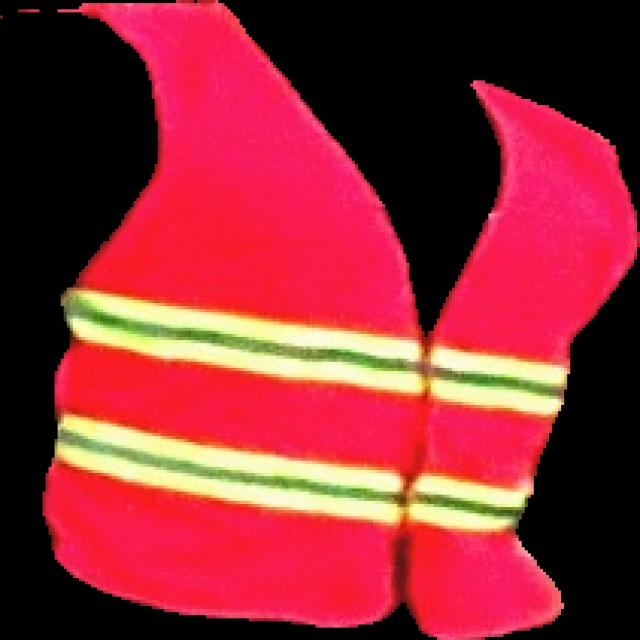Colete: (43, 0, 639, 639)
